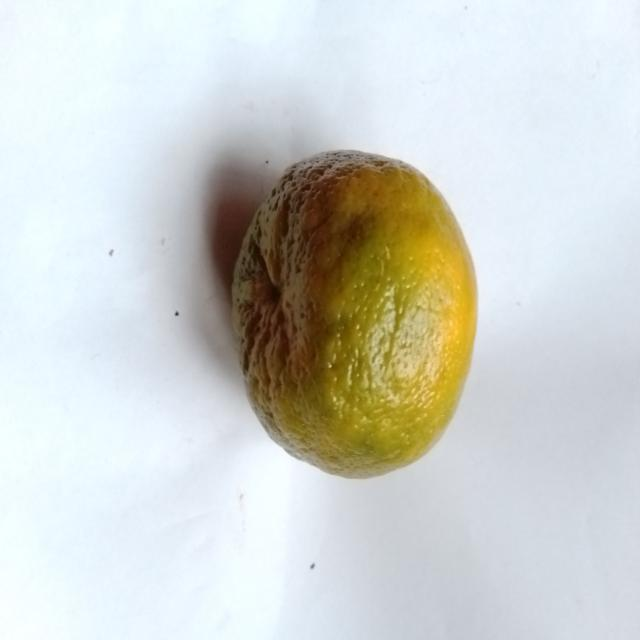orange: (232, 151, 477, 478)
